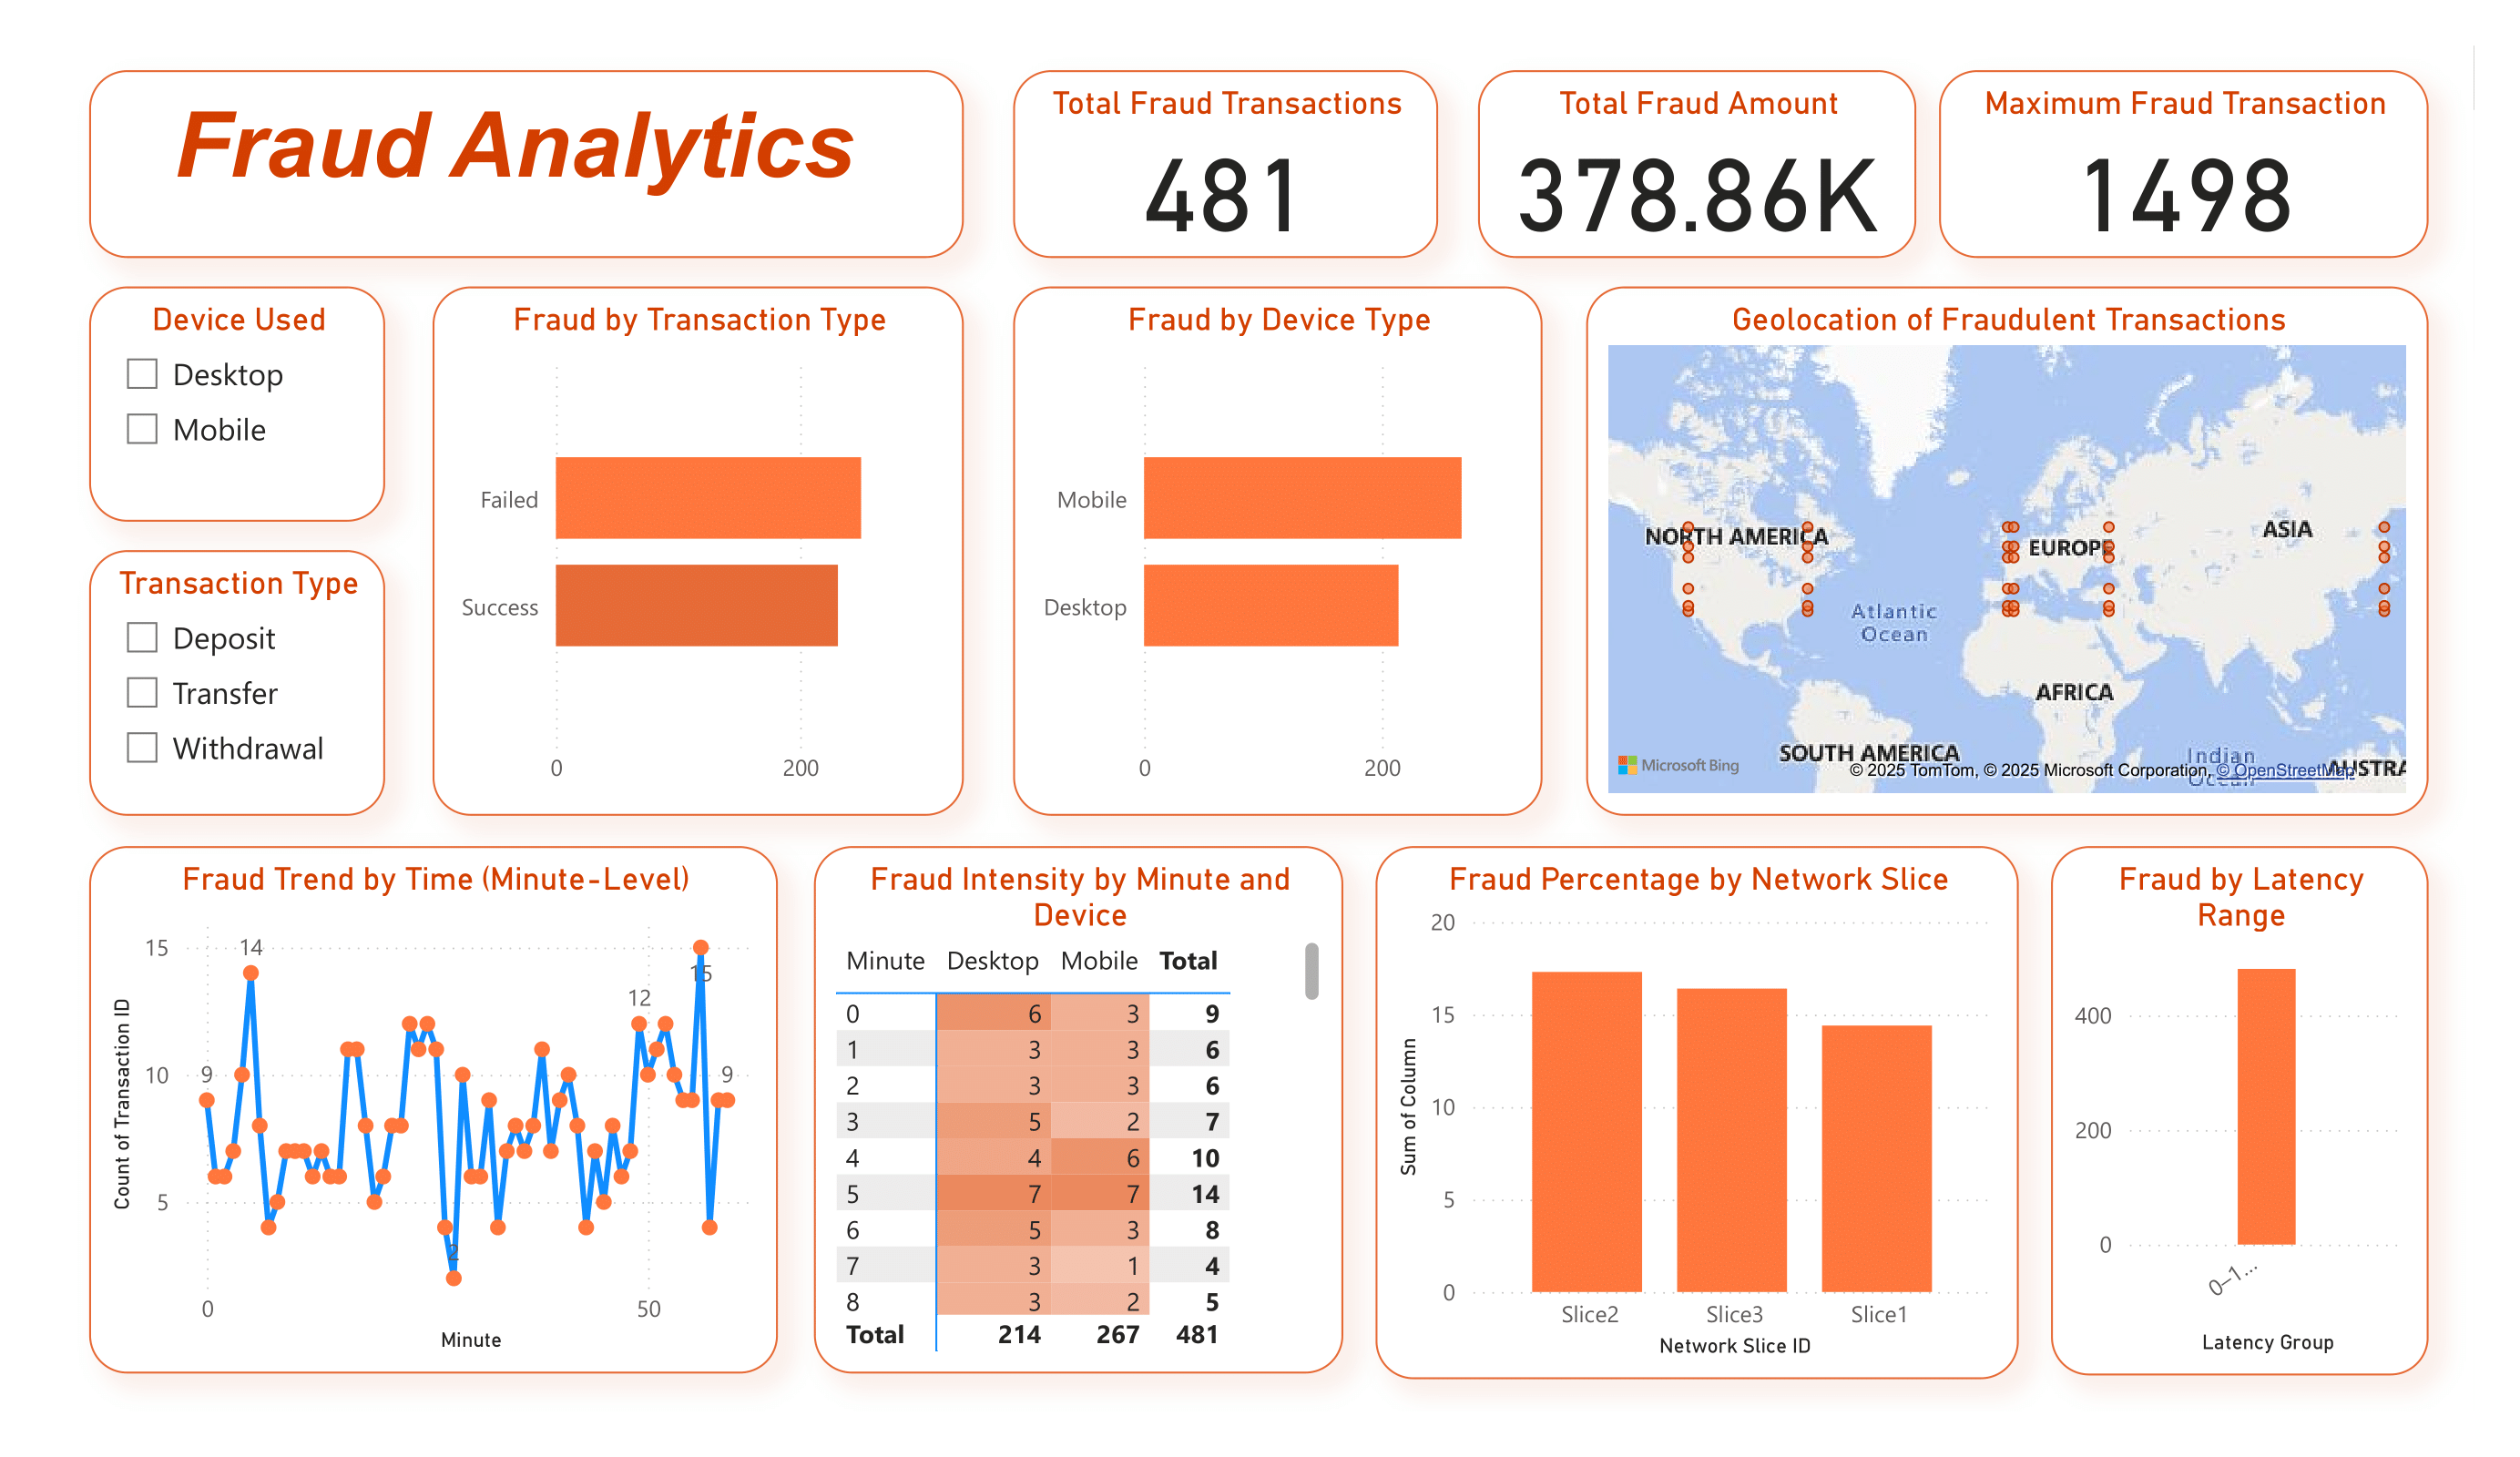

What the dashboard file says about the page in this screenshot:
{"tool":"powerbi","page":{"name":"Fraud Analytics","canvas":[1280,720],"ordinal":1},"visuals":[{"type":"clusteredBarChart","title":"Fraud by Transaction Type","fields":{"Y":["CountNonNull(SecureTransaction_data.Transaction ID)"],"Category":["SecureTransaction_data.Transaction Status"]},"box":[204.5,126.7,279.4,279.4],"z":0},{"type":"clusteredBarChart","title":"Fraud by Device Type","fields":{"Category":["SecureTransaction_data.Device Used"],"Y":["CountNonNull(SecureTransaction_data.Transaction ID)"]},"box":[509.8,126.7,279.4,279.4],"z":1000},{"type":"map","title":"Geolocation of Fraudulent Transactions","fields":{"Y":["SecureTransaction_data.Geolocation (Latitude)"],"X":["SecureTransaction_data.Geolocation (Longitude)"]},"box":[812.2,126.7,443.5,279.4],"z":2000},{"type":"lineChart","title":"Fraud Trend by Time (Minute-Level)","fields":{"Category":["SecureTransaction_data.Minute"],"Y":["CountNonNull(SecureTransaction_data.Transaction ID)"]},"box":[23,421.9,362.9,277.9],"z":3000},{"type":"pivotTable","title":"Fraud Intensity by Minute and Device","fields":{"Rows":["SecureTransaction_data.Minute"],"Columns":["SecureTransaction_data.Device Used"],"Values":["CountNonNull(SecureTransaction_data.Transaction ID)"]},"box":[404.6,421.9,279.4,277.9],"z":4000},{"type":"columnChart","title":"Fraud Percentage by Network Slice","fields":{"Y":["Sum(SecureTransaction_data.Column)"],"Category":["SecureTransaction_data.Network Slice ID"]},"box":[701.3,421.9,338.4,280.8],"z":5000},{"type":"clusteredColumnChart","title":"Fraud by Latency Range","fields":{"Category":["SecureTransaction_data.Latency Group"],"Y":["CountNonNull(SecureTransaction_data.Transaction ID)"]},"box":[1057,421.9,198.7,279.4],"z":6000},{"type":"textbox","box":[23,13,460.8,99.4],"z":7000},{"type":"card","title":"Total Fraud Transactions","fields":{"Values":["SecureTransaction_data.Total Fraud Count"]},"box":[509.8,13,224.6,99.4],"z":8000},{"type":"card","title":"Total Fraud Amount","fields":{"Values":["SecureTransaction_data.Total Fraud Amount"]},"box":[754.6,13,231.8,99.4],"z":9000},{"type":"card","title":"Maximum Fraud Transaction","fields":{"Values":["SecureTransaction_data.Unique Fraud Devices"]},"box":[997.9,13,257.8,99.4],"z":10000},{"type":"slicer","title":"Device Used","fields":{"Values":["SecureTransaction_data.Device Used"]},"box":[23,126.7,155.5,123.8],"z":11000},{"type":"slicer","title":"Transaction Type","fields":{"Values":["SecureTransaction_data.Transaction Type"]},"box":[23,266.4,155.5,139.7],"z":12000}]}

Visuals, with their boxes in screenshot pixels (x1, y1, x2, y2):
"Fraud by Transaction Type" clusteredBarChart: BBox(434, 286, 964, 816)
"Fraud by Device Type" clusteredBarChart: BBox(1013, 286, 1543, 816)
"Geolocation of Fraudulent Transactions" map: BBox(1586, 286, 2428, 816)
"Fraud Trend by Time (Minute-Level)" lineChart: BBox(89, 846, 778, 1373)
"Fraud Intensity by Minute and Device" pivotTable: BBox(813, 846, 1343, 1373)
"Fraud Percentage by Network Slice" columnChart: BBox(1376, 846, 2018, 1379)
"Fraud by Latency Range" clusteredColumnChart: BBox(2051, 846, 2428, 1376)
textbox: BBox(89, 70, 964, 259)
"Total Fraud Transactions" card: BBox(1013, 70, 1439, 259)
"Total Fraud Amount" card: BBox(1477, 70, 1917, 259)
"Maximum Fraud Transaction" card: BBox(1939, 70, 2428, 259)
"Device Used" slicer: BBox(89, 286, 384, 521)
"Transaction Type" slicer: BBox(89, 551, 384, 816)
